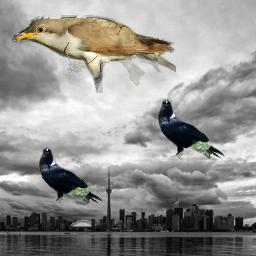Crow: (157, 99, 225, 160), (38, 147, 103, 206)
Cuckoo: (12, 15, 176, 93)
